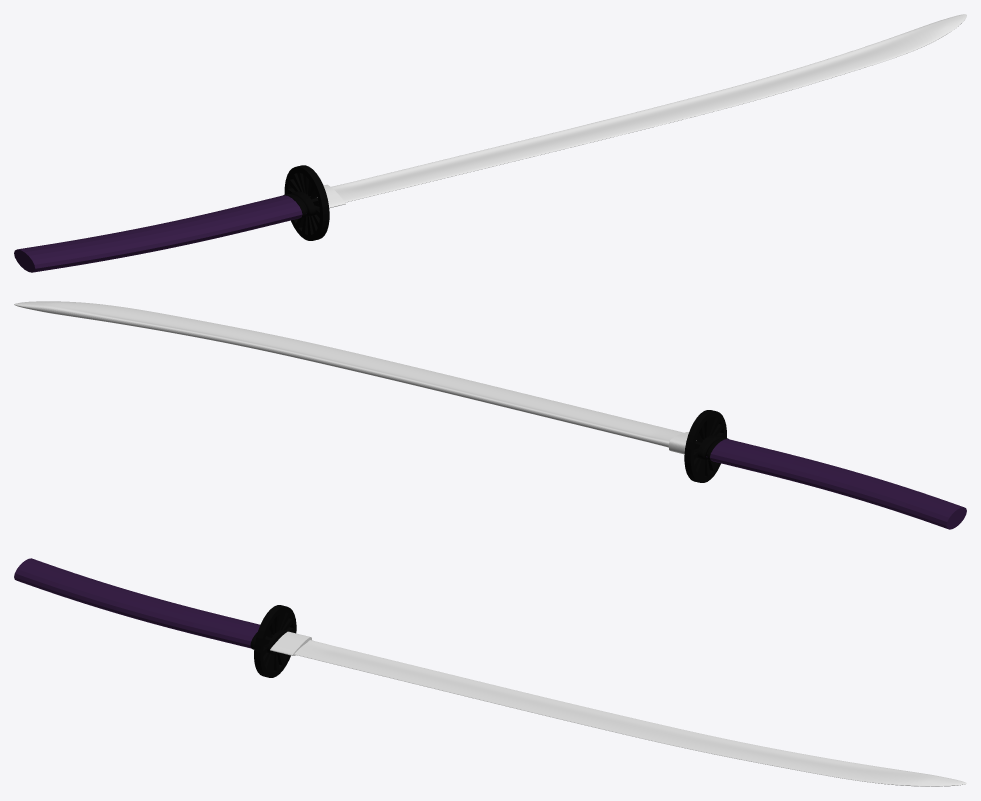
The model's file is Rivers_of_Blood.fbx.
3 renders of one model, top to bottom at view 1: azimuth 30°, elevation 25°; view 2: azimuth 150°, elevation 25°; view 3: azimuth 330°, elevation 25°, orthographic. The views are drawn at different scales.
Visible parts, largest first — view 1: BladeCube, Cylinder, HiltCylinder; view 2: BladeCube, Cylinder, HiltCylinder; view 3: BladeCube, Cylinder, HiltCylinder, Cube.001.
Boxes of the visible parts, x1=… form: BladeCube: x1=331, y1=14, x2=966, y2=202; Cylinder: x1=14, y1=195, x2=306, y2=272; HiltCylinder: x1=284, y1=165, x2=329, y2=240; BladeCube: x1=14, y1=301, x2=683, y2=447; Cylinder: x1=706, y1=439, x2=966, y2=529; HiltCylinder: x1=684, y1=410, x2=726, y2=482; BladeCube: x1=294, y1=640, x2=966, y2=786; Cylinder: x1=14, y1=558, x2=260, y2=648; HiltCylinder: x1=254, y1=605, x2=296, y2=677; Cube.001: x1=270, y1=631, x2=311, y2=655.
Size of the model in its own units: 1783 by 122 by 155.
